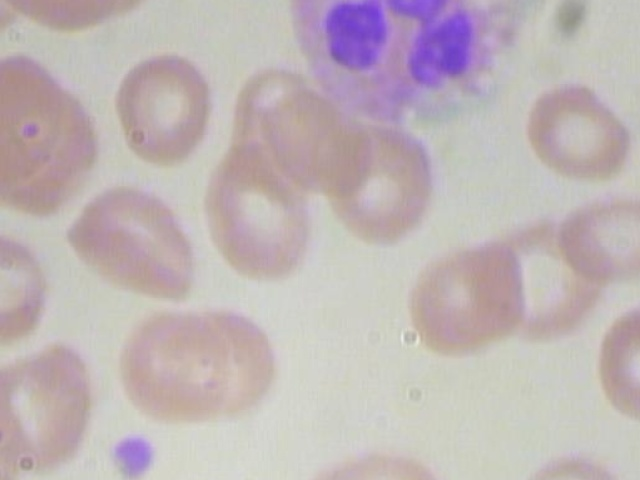Platelets: (97, 426, 158, 480)
RBC: (59, 174, 202, 309), (399, 233, 532, 371), (193, 141, 321, 279), (312, 112, 440, 250), (112, 291, 230, 431), (0, 333, 98, 474), (109, 49, 216, 172), (527, 70, 634, 193), (0, 47, 72, 198), (550, 192, 640, 291), (572, 303, 640, 426), (0, 220, 51, 347), (297, 439, 450, 480), (0, 0, 130, 36)
WBC: (283, 0, 560, 128)
